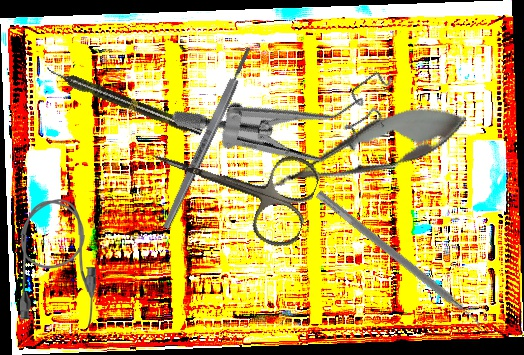Cannula: (17, 198, 98, 329)
Handpiece: (43, 63, 205, 139)
Iris Scissors: (138, 110, 324, 254)
Micro Scissor: (253, 89, 475, 216)
Scalpel Handle: (160, 45, 255, 231)
Spatula Surgical: (309, 189, 488, 335)
Speculum: (169, 5, 413, 221)
